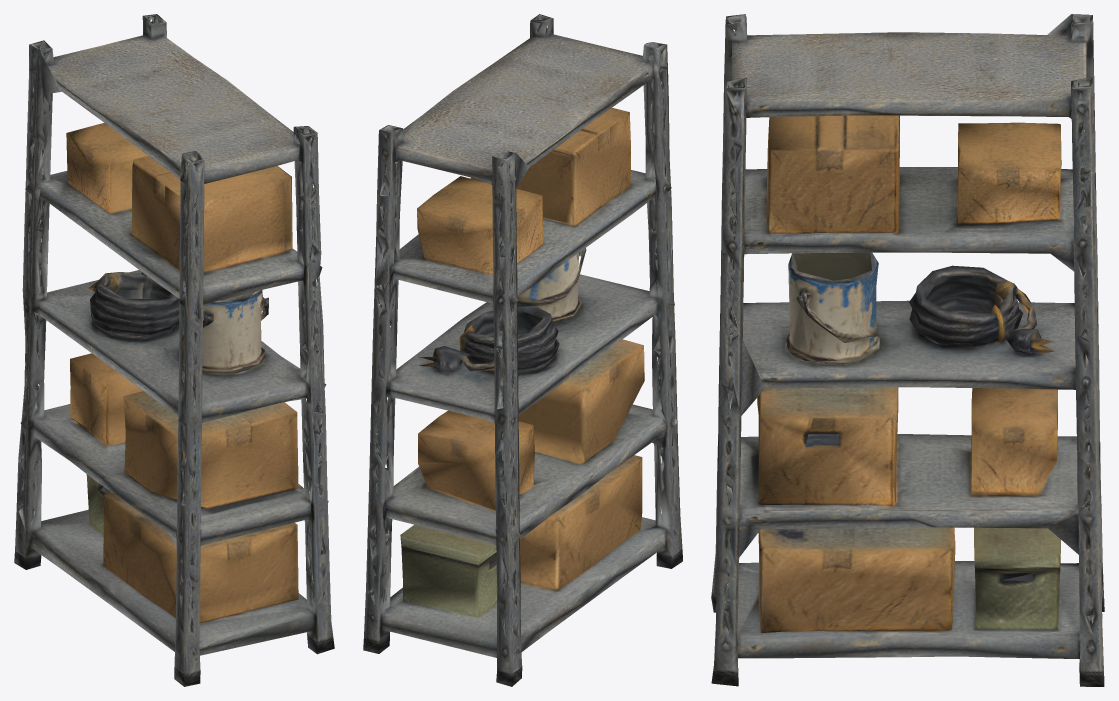
File: MaintenanceShelving.fbx
3 renders of one model, left to right at view 1: azimuth 30°, elevation 25°; view 2: azimuth 150°, elevation 25°; view 3: azimuth 270°, elevation 25°, orthographic. The views are drawn at different scales.
Visible parts, largest first — view 1: tripo_node_bd28021f-7510-457f-b583-8c52c6280e50; view 2: tripo_node_bd28021f-7510-457f-b583-8c52c6280e50; view 3: tripo_node_bd28021f-7510-457f-b583-8c52c6280e50.
Boxes of the visible parts, left/top/right/bottom form: tripo_node_bd28021f-7510-457f-b583-8c52c6280e50: left=14, top=14, right=334, bottom=686; tripo_node_bd28021f-7510-457f-b583-8c52c6280e50: left=363, top=14, right=682, bottom=686; tripo_node_bd28021f-7510-457f-b583-8c52c6280e50: left=711, top=14, right=1104, bottom=686.
Size of the model in its own units: 30.99 by 100 by 59.73.
Materials: 1 (1 with a texture image).
